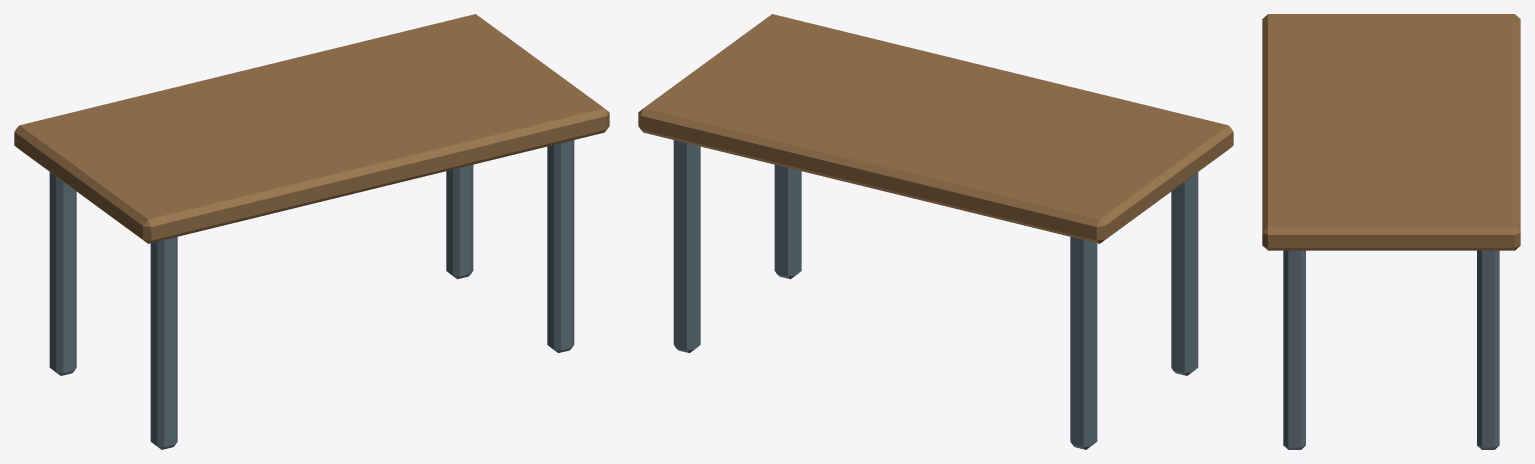
Rendered from objects-table.lod0.glb.
3 views of the same model, side by side, from view 1: azimuth 30°, elevation 25°; view 2: azimuth 150°, elevation 25°; view 3: azimuth 270°, elevation 25° (orthographic). The views are drawn at different scales.
Visible parts, largest first — view 1: objects-table__body; view 2: objects-table__body; view 3: objects-table__body.
Boxes of the visible parts, x1,y1,x2,y2 form: objects-table__body: (14, 14, 609, 449); objects-table__body: (638, 14, 1233, 449); objects-table__body: (1262, 14, 1520, 449).
Size of the model in its own units: 1.6 by 0.8 by 0.8.
